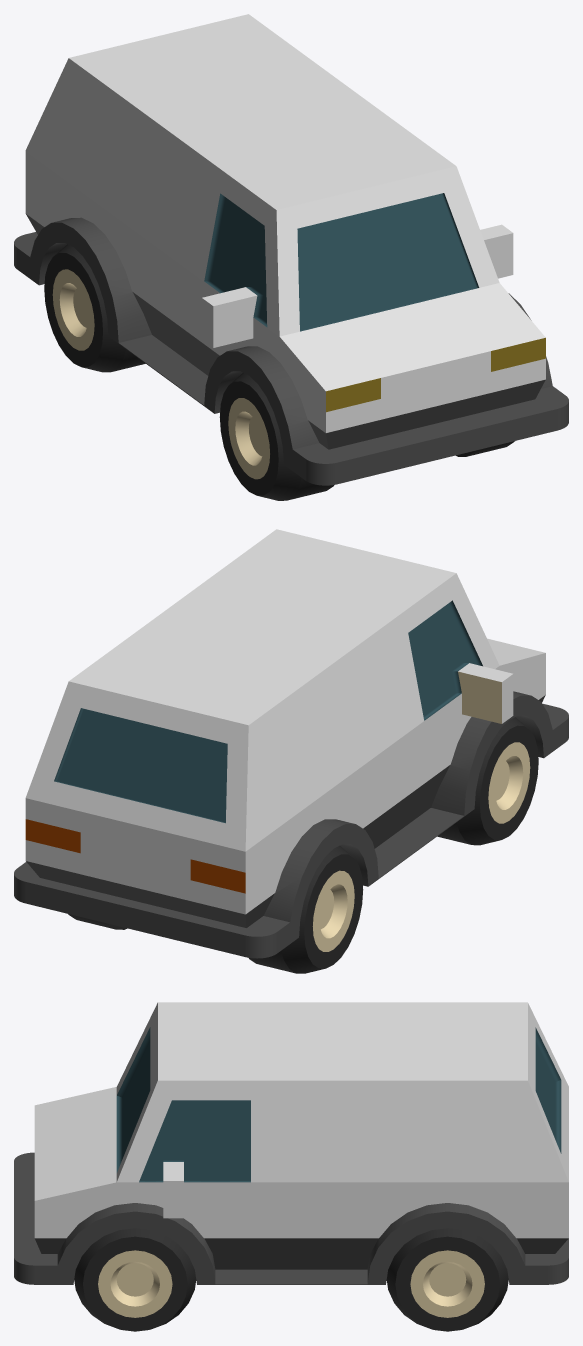
Rendered from 60 Ven.fbx.
3 renders of one model, top to bottom at view 1: azimuth 30°, elevation 25°; view 2: azimuth 150°, elevation 25°; view 3: azimuth 270°, elevation 25°, orthographic. The views are drawn at different scales.
Visible parts, largest first — view 1: Ven; view 2: Ven; view 3: Ven.
Part boxes in pixels (x1,y1,x2,y2): Ven: [14, 14, 568, 500]; Ven: [14, 529, 568, 973]; Ven: [14, 1002, 568, 1331].
Bounding box in the file's own units: 46.48 × 40.28 × 83.66.
